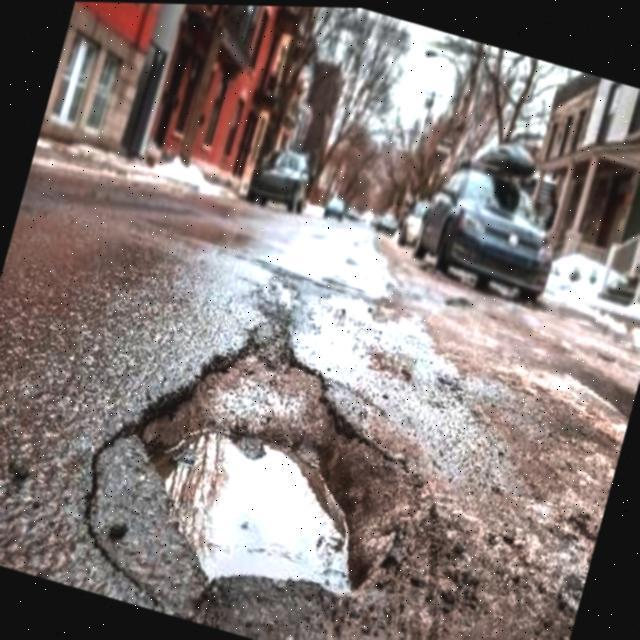pothole: (98, 286, 430, 632)
